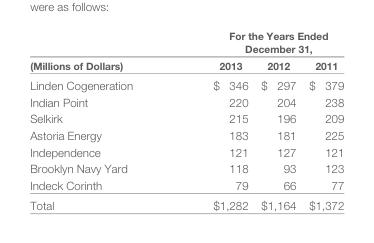table: (29, 29, 343, 211)
table column: (29, 29, 172, 211), (172, 29, 253, 211), (253, 29, 301, 211), (301, 29, 343, 211)
table column header: (29, 29, 343, 74)
table row: (29, 29, 343, 56), (29, 74, 343, 93), (29, 56, 343, 74), (29, 176, 343, 194), (29, 109, 343, 126), (29, 142, 343, 159), (29, 159, 343, 176), (29, 194, 343, 211), (29, 93, 343, 109), (29, 126, 343, 142)
table spanning cell: (29, 29, 172, 74), (172, 29, 343, 56)
